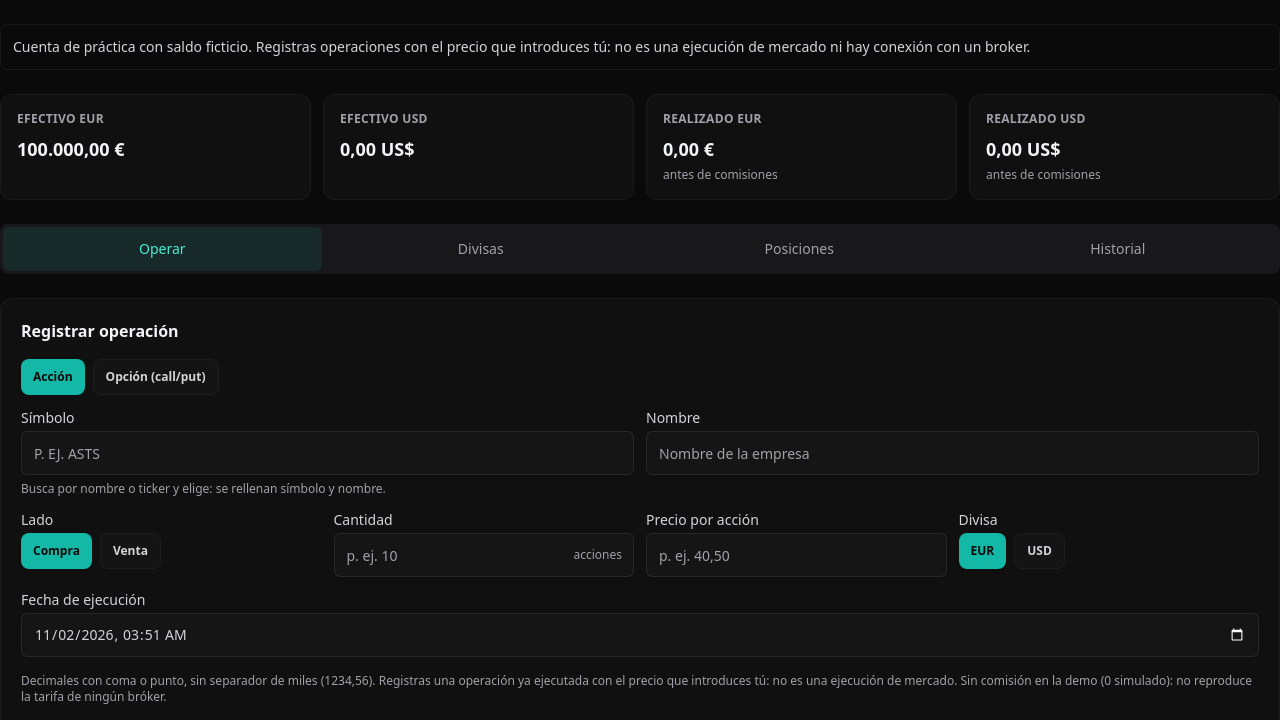
Test: ManualDemoPanel (cuenta demo manual) › si la siguiente página falla se avisa y se conserva lo cargado
This screenshot has width=1280, height=720.
Press the mouse on the tab "Historial" at (1118, 249), box [958, 227, 1277, 271]
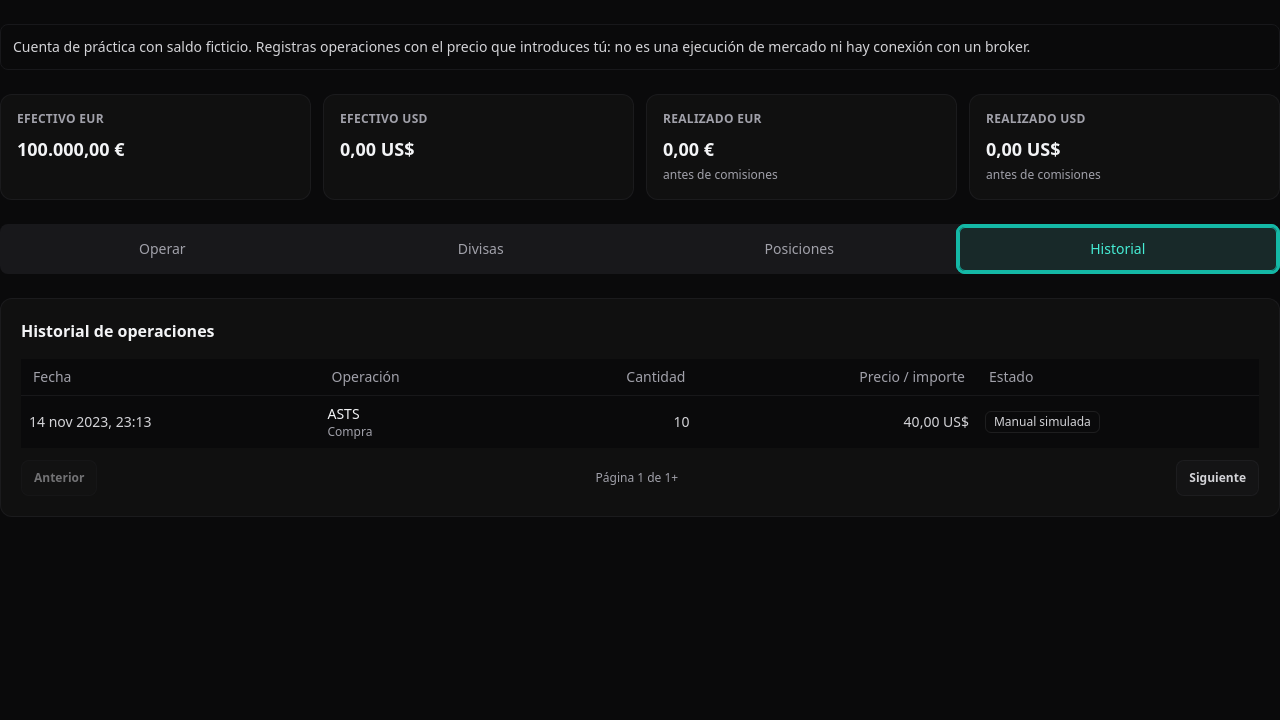
Click the button with aria-label "Página siguiente". click: (1218, 478)
box: [1176, 460, 1259, 496]
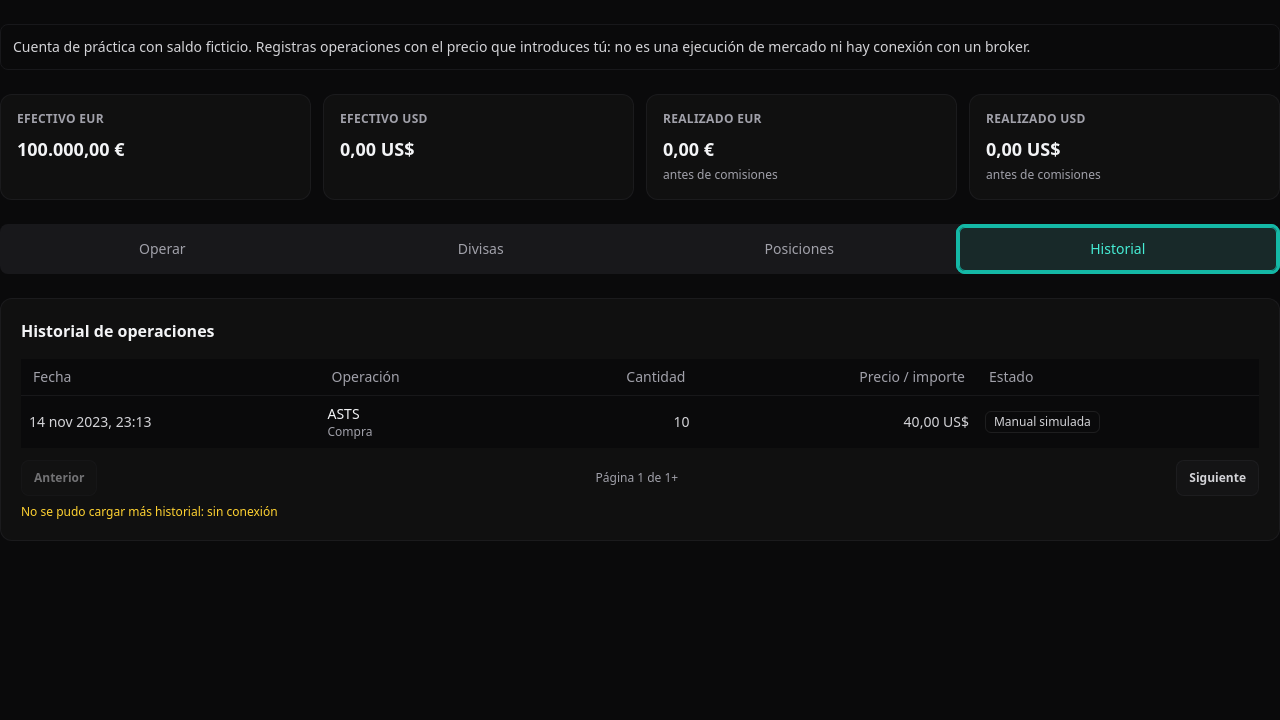
Expected: the text "ASTS" is shown, [328, 404, 360, 423]
Expected: the button with aria-label "Página siguiente" is enabled, [1176, 460, 1259, 496]
Expected: the message reads "No se pudo cargar más historial: sin conexión", [21, 503, 278, 520]
